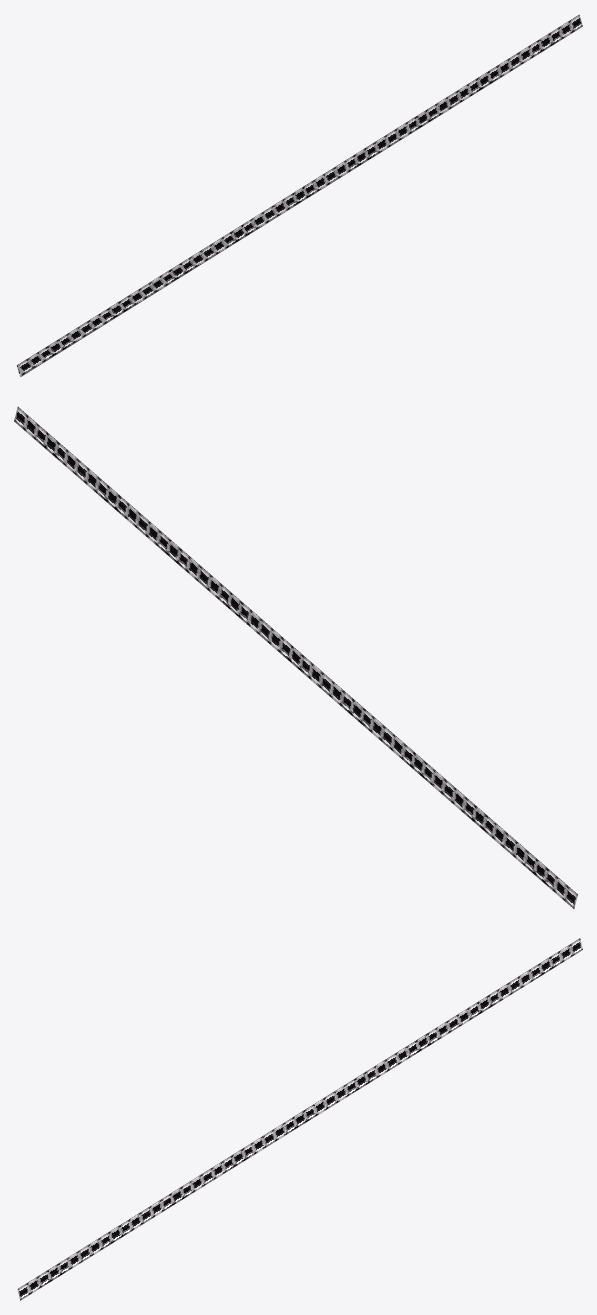
The picture shows the model from 3 angles, top to bottom: view 1: azimuth 90°, elevation 25°; view 2: azimuth 150°, elevation 25°; view 3: azimuth 270°, elevation 25°; orthographic projection. The views are drawn at different scales.
Visible parts, largest first — view 1: Cylinder17; view 2: Cylinder17; view 3: Cylinder17.
Part boxes in pixels (<box>): Cylinder17: <box>17,14,582,376</box>; Cylinder17: <box>14,407,577,908</box>; Cylinder17: <box>17,938,582,1300</box>.
Bounding box in the file's own units: 448 × 6.54 × 305.
1 material, 1 textured.
